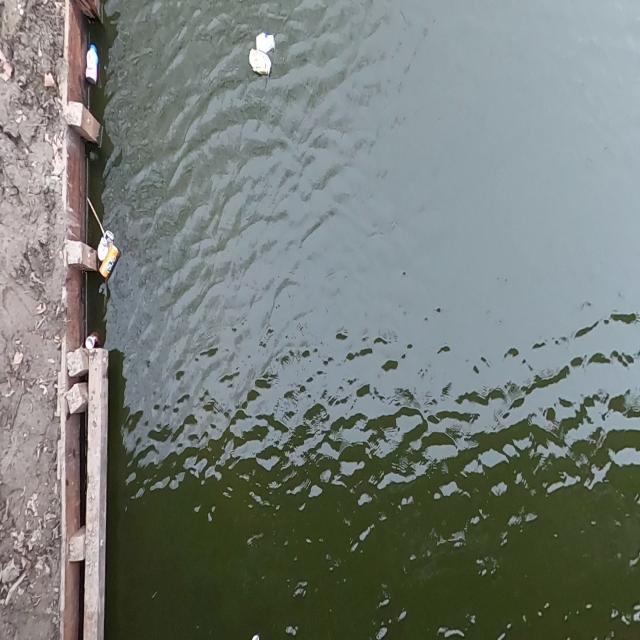Non plastique: (91, 238, 123, 292), (93, 218, 120, 278), (244, 51, 273, 80), (252, 24, 281, 53)
